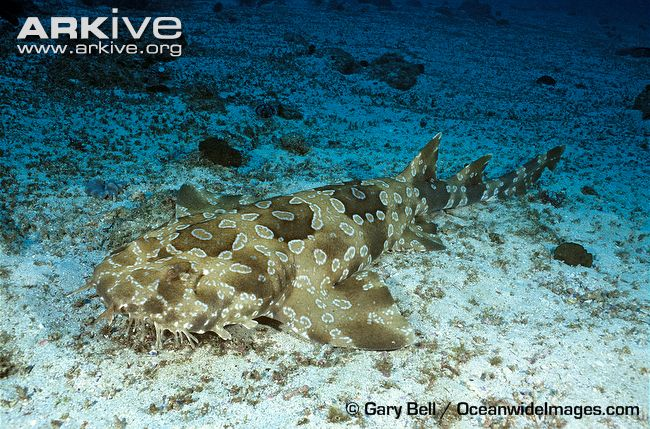shark: (48, 96, 609, 372)
